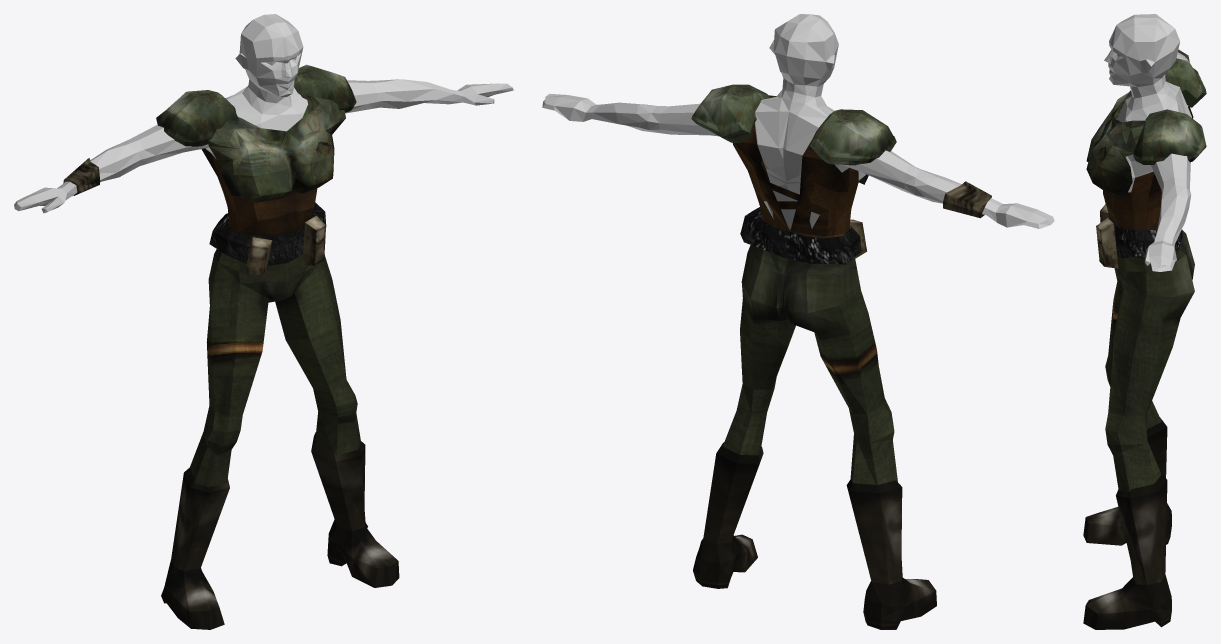
The model's file is lafemale.obj.
The picture shows the model from 3 angles, left to right: view 1: azimuth 30°, elevation 25°; view 2: azimuth 150°, elevation 25°; view 3: azimuth 270°, elevation 25°; orthographic projection. The views are drawn at different scales.
Visible parts, largest first — view 1: Plane01, Object02, Object01; view 2: Plane01, Object02, Object01; view 3: Plane01, Object02, Object01.
Boxes of the visible parts, bbox=[...] form: Plane01: bbox=[14, 14, 513, 487]; Object02: bbox=[63, 95, 399, 629]; Object01: bbox=[156, 64, 356, 146]; Plane01: bbox=[542, 14, 1054, 484]; Object02: bbox=[693, 95, 991, 629]; Object01: bbox=[691, 84, 896, 165]; Plane01: bbox=[1104, 14, 1194, 492]; Object02: bbox=[1083, 49, 1193, 629]; Object01: bbox=[1133, 58, 1206, 164].
Size of the model in its own units: 88.8 by 97.12 by 19.29.
